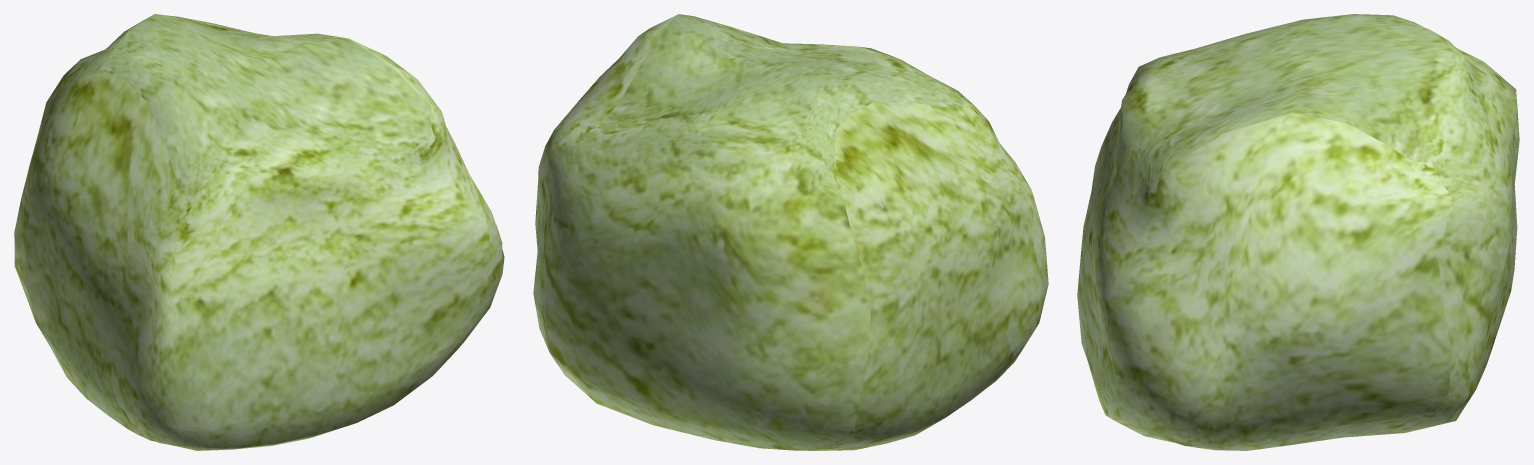
File: wasabiModel2.fbx
3 views of the same model, side by side, from view 1: azimuth 30°, elevation 25°; view 2: azimuth 150°, elevation 25°; view 3: azimuth 270°, elevation 25° (orthographic). The views are drawn at different scales.
Visible parts, largest first — view 1: wasabi; view 2: wasabi; view 3: wasabi.
Boxes of the visible parts, left/top/right/bottom form: wasabi: left=14, top=14, right=504, bottom=450; wasabi: left=533, top=14, right=1048, bottom=450; wasabi: left=1077, top=14, right=1519, bottom=450.
Bounding box in the file's own units: 1.26 × 1.05 × 1.13.
1 material, 1 textured.
